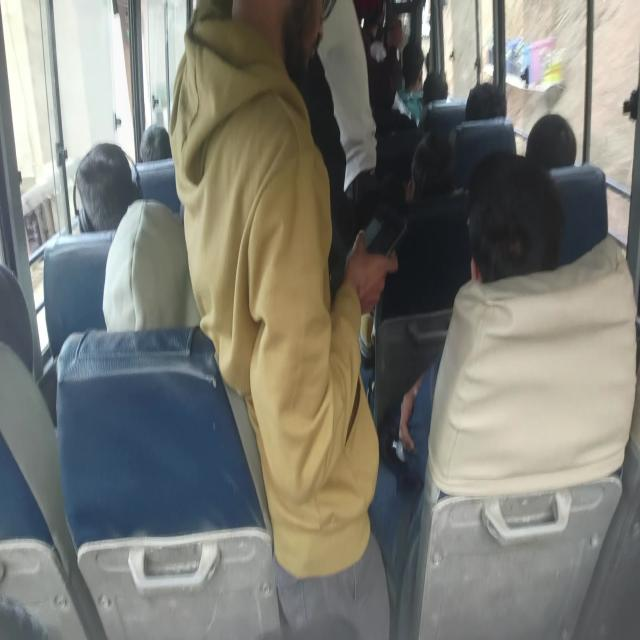person: (189, 2, 351, 389), (238, 0, 344, 199), (472, 164, 552, 312), (317, 0, 385, 163), (0, 276, 31, 612), (114, 220, 181, 304), (128, 129, 174, 200), (78, 153, 133, 203), (383, 109, 428, 168), (468, 88, 516, 130), (412, 142, 450, 192), (527, 117, 574, 153), (422, 69, 456, 111), (401, 47, 428, 72)
